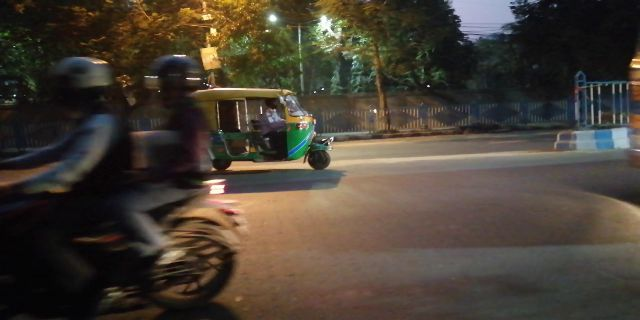Autorickshaw: (221, 82, 333, 175)
Motorbike: (8, 60, 238, 299)
